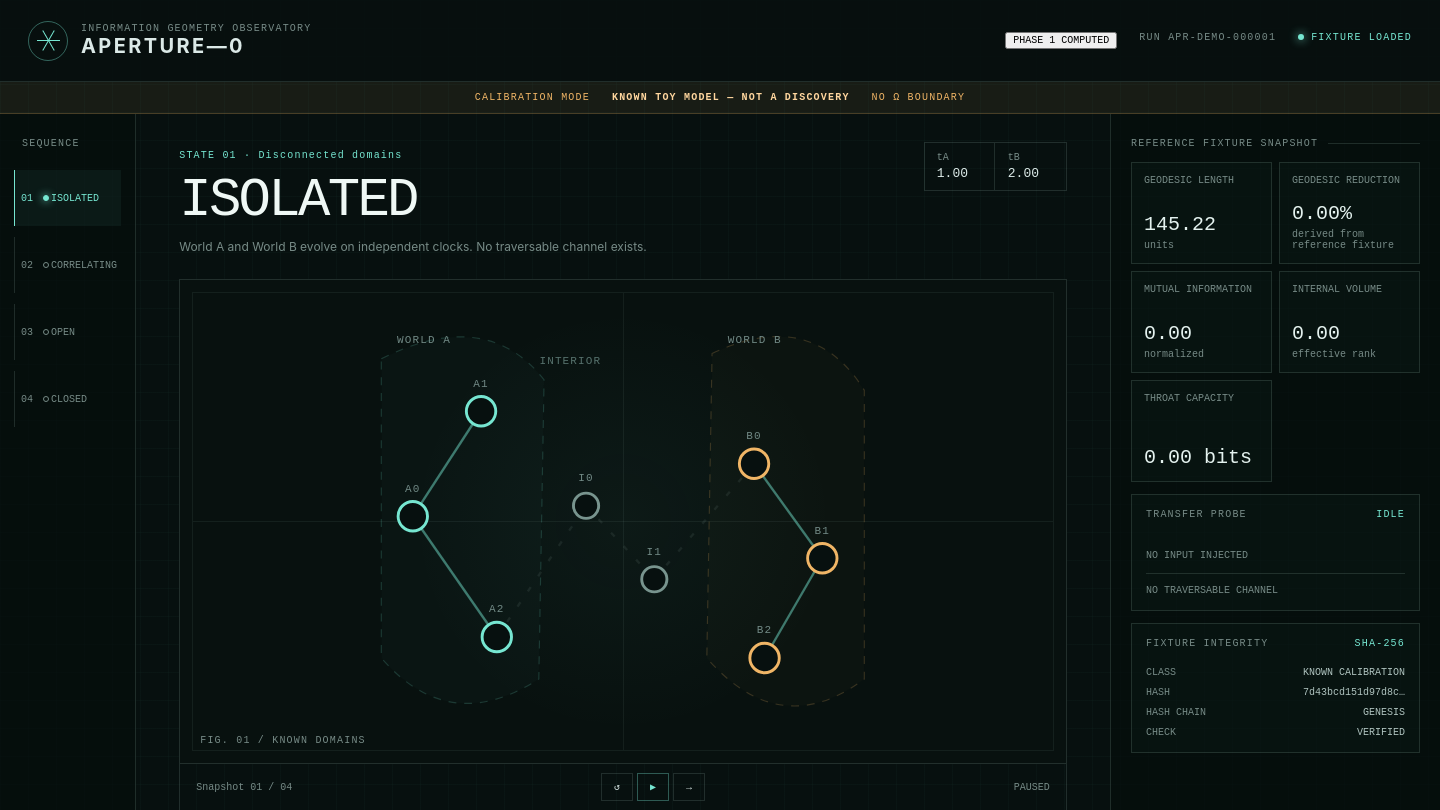
Aperture-0 observatory › steps to OPEN and exposes verified transfer evidence
Step 1. Click the button named "Next snapshot" → [689, 787], box [673,773,705,801]
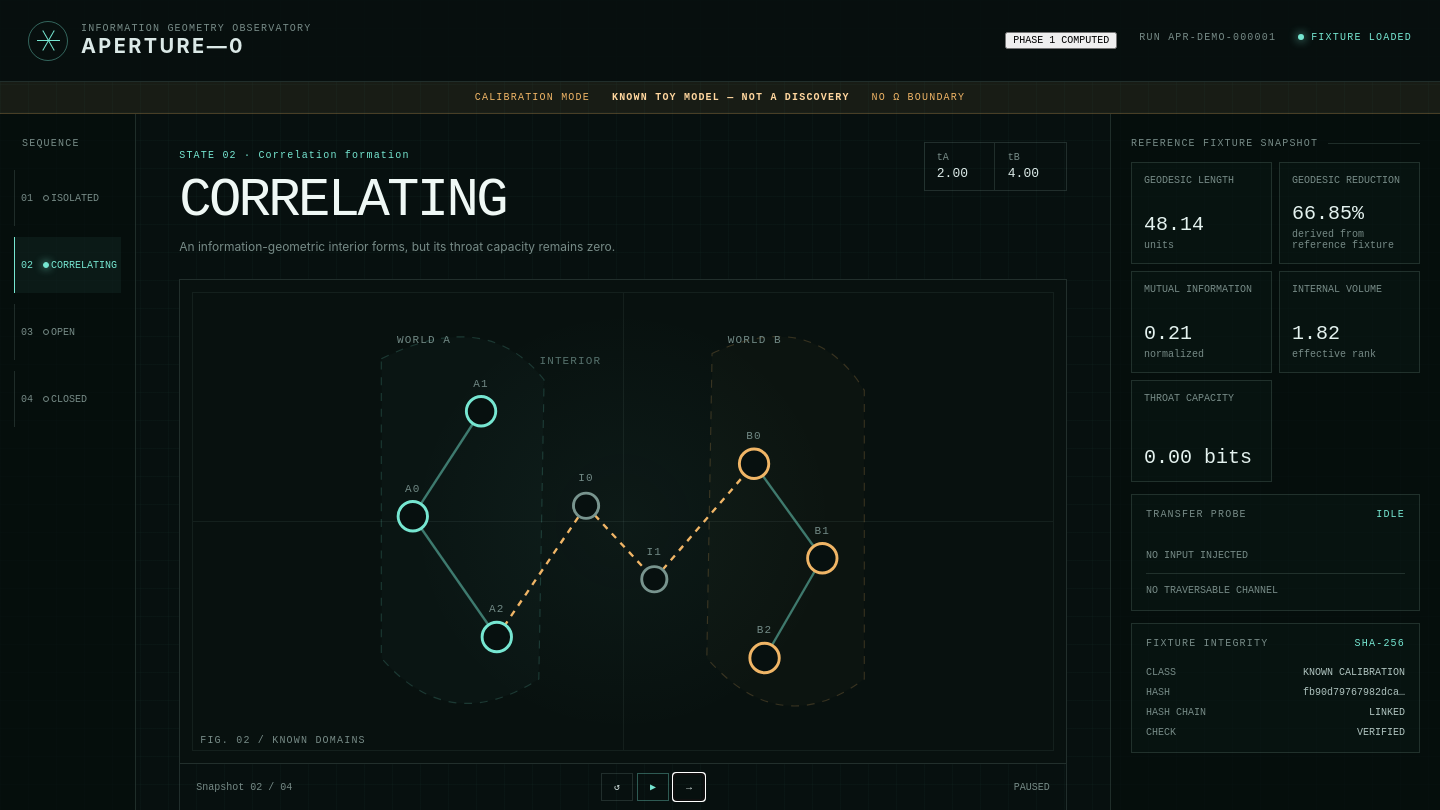
Step 2. Click the button named "Next snapshot" → [689, 787], box [673,773,705,801]
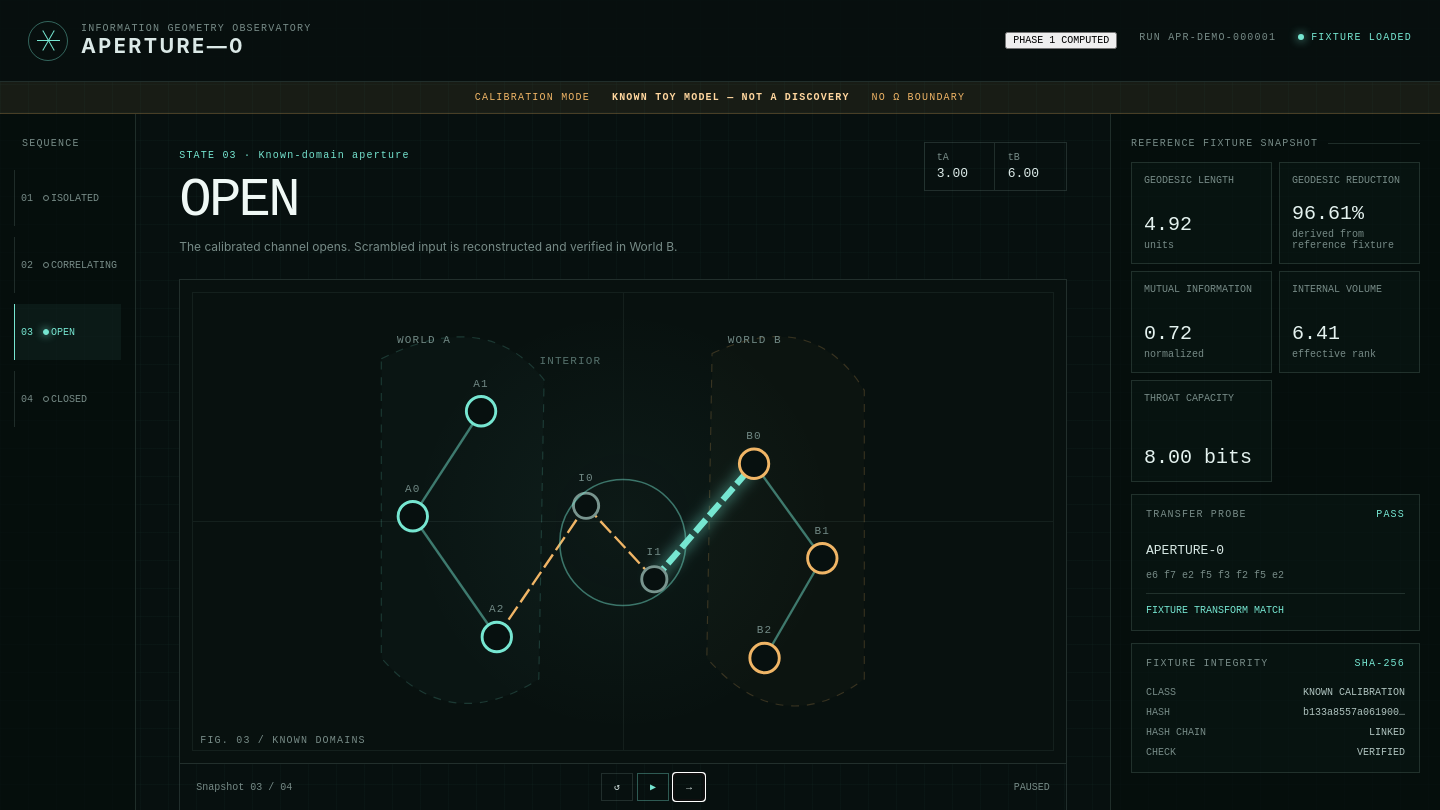
Check: the heading "OPEN" is shown, box [179,170,298,231]
Check: the text "8.00 bits" is shown, box [1144,446,1259,469]
Check: the text "APERTURE-0" is shown, box [1146,543,1224,558]
Step 3. Click the button named "Next snapshot" → [689, 787], box [673,773,705,801]
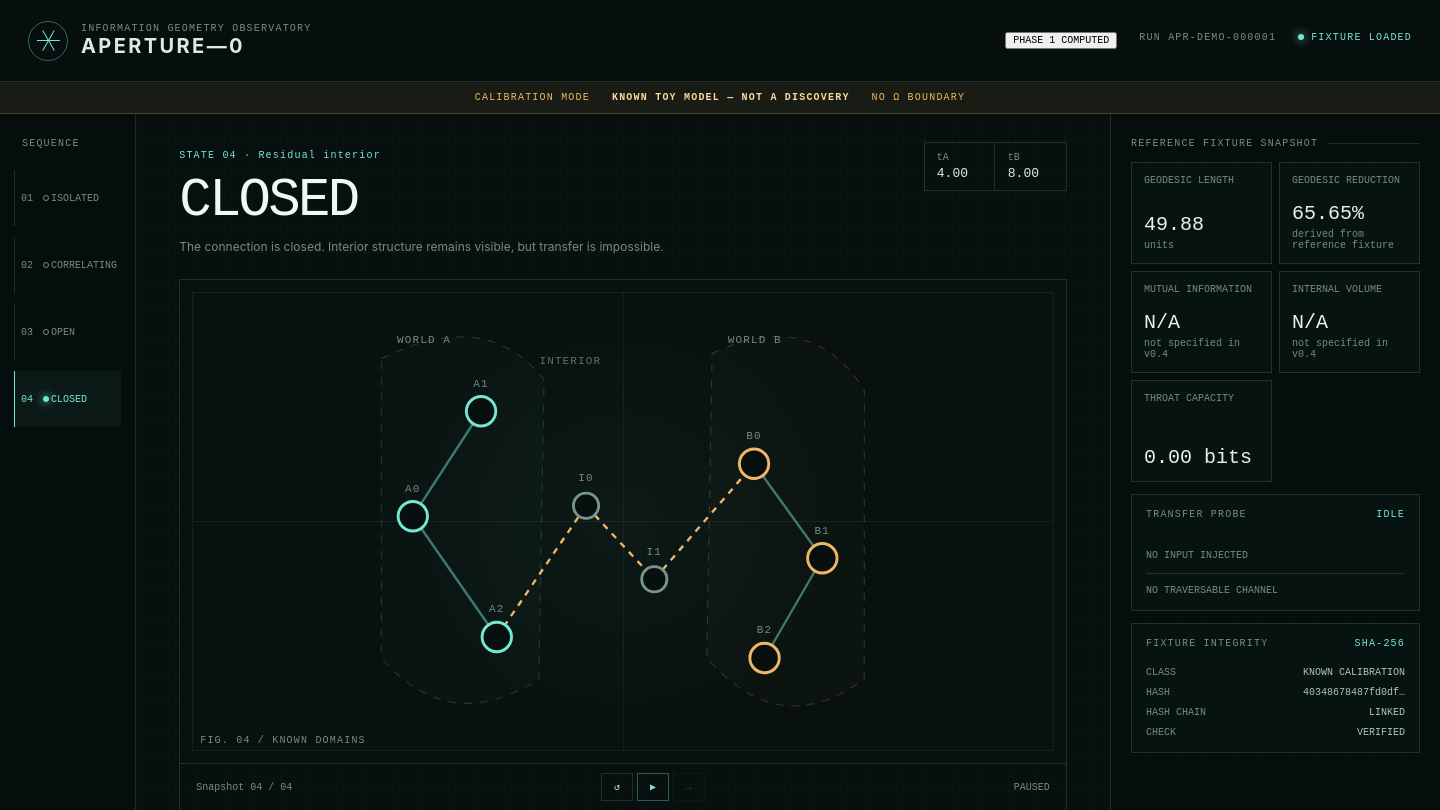
Check: the text "APERTURE-0" is not shown
Check: the heading "CLOSED" is shown, box [179,170,357,231]
Check: the text "NO INPUT INJECTED" is shown, box [1146,550,1248,561]
